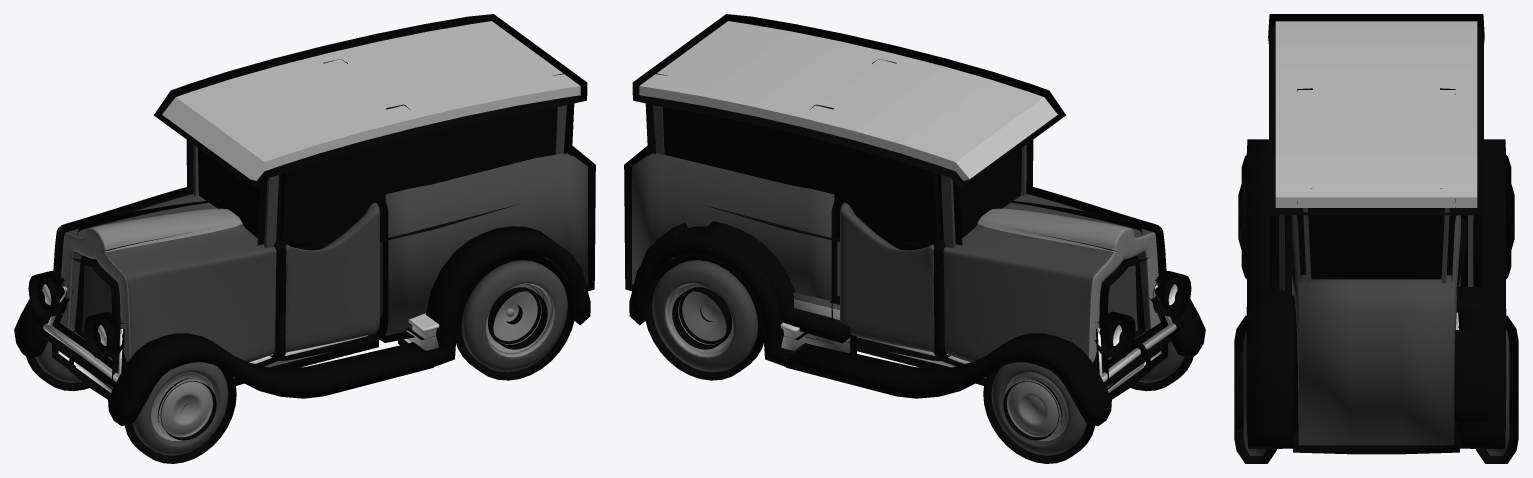
Rendered from Car.fbx.
The picture shows the model from 3 angles, left to right: view 1: azimuth 30°, elevation 25°; view 2: azimuth 150°, elevation 25°; view 3: azimuth 270°, elevation 25°; orthographic projection. The views are drawn at different scales.
Parts seen in each view (by area): view 1: Car, CarOutline; view 2: Car, CarOutline; view 3: Car, CarOutline.
Boxes of the visible parts, x1,y1,x2,y2 form: Car: (35,21,587,455); CarOutline: (14,14,595,463); Car: (632,21,1184,455); CarOutline: (624,14,1205,463); Car: (1243,21,1509,455); CarOutline: (1234,14,1518,463).
Size of the model in its own units: 408 by 224 by 179.
